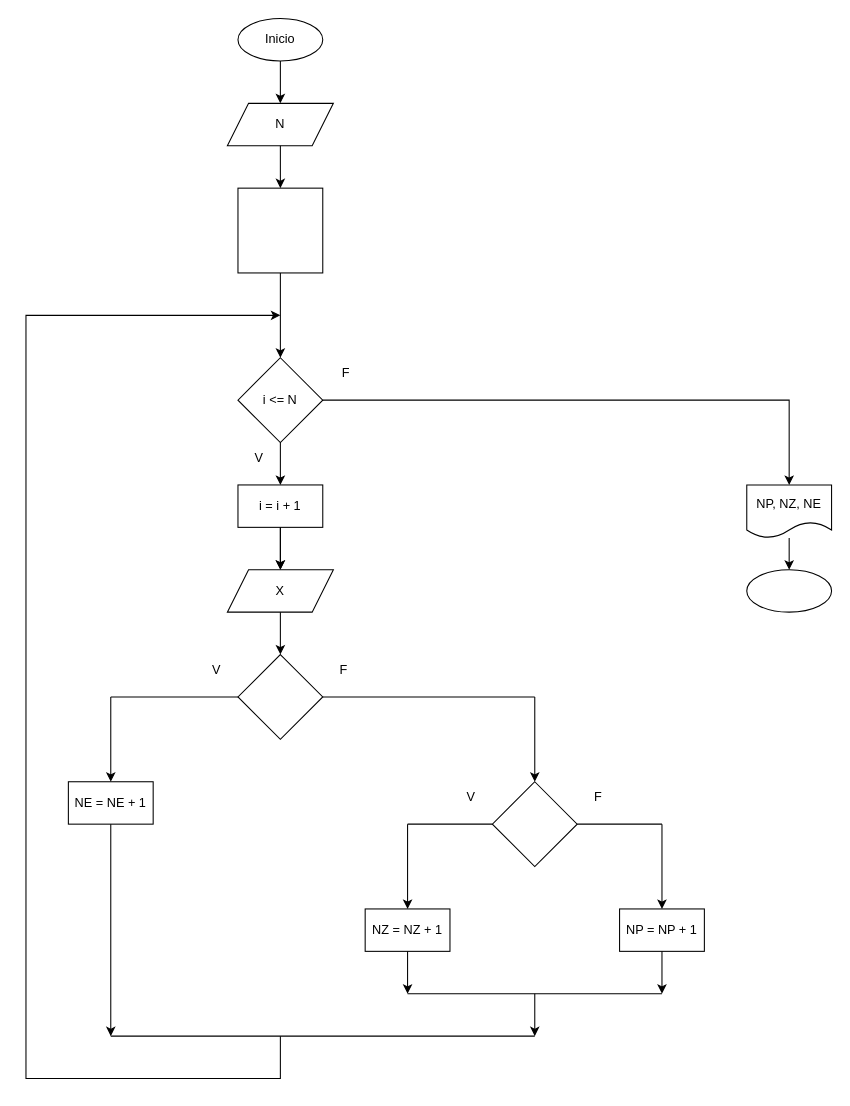
The diagram is 850 pixels wide and 1106 high, and some of its shapes have lost their labels. Each missing label, with the box of its shape:
Fin: (746, 569, 832, 612)
i = 1 NP = 0 NZ = 0 NE = 0: (237, 187, 323, 273)
X < 0: (237, 653, 323, 739)
X = 0: (491, 781, 577, 867)
